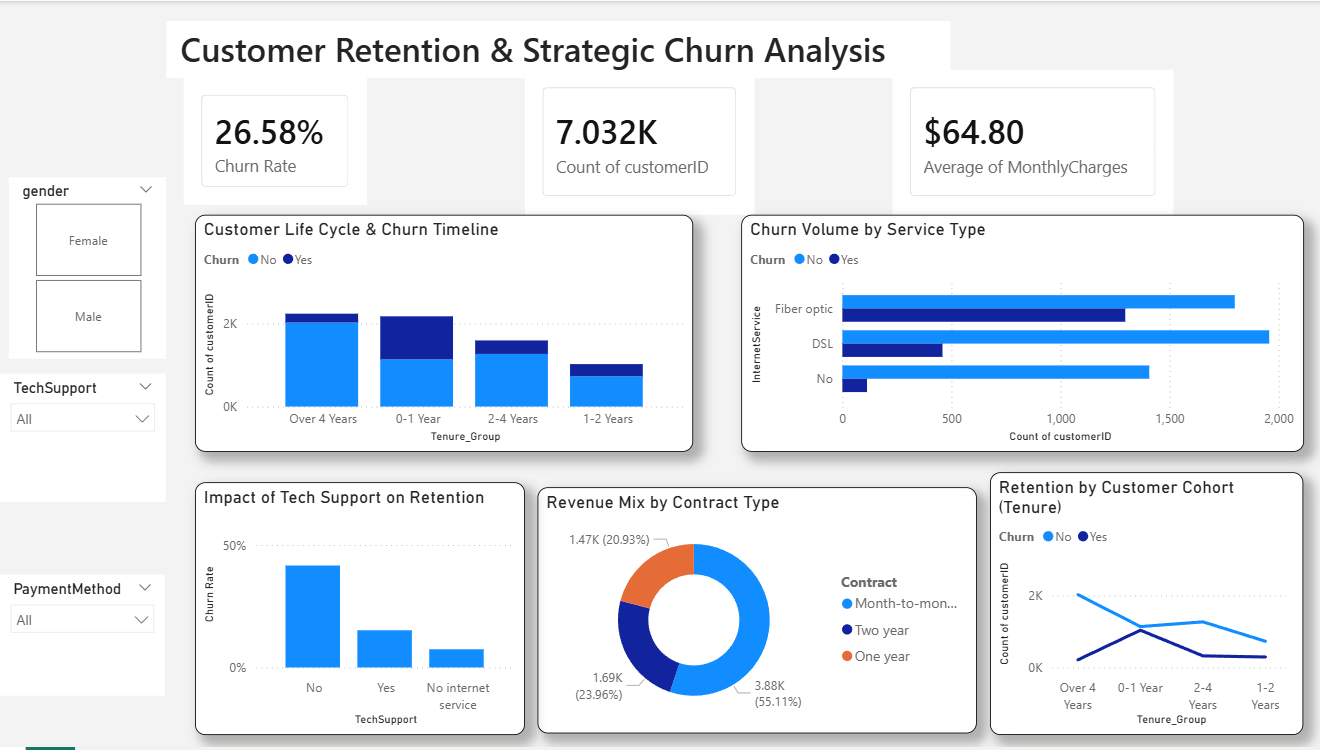

Layout of this report page (visuals, bound fields, positions):
{"tool":"powerbi","page":{"name":"Page 1","canvas":[1280,720],"ordinal":0},"visuals":[{"type":"cardVisual","fields":{"Data":["Count(final_churn_analysis_data.customerID)"]},"box":[506.7,65.8,221.4,139.7],"z":0},{"type":"cardVisual","fields":{"Data":["Avg(final_churn_analysis_data.MonthlyCharges)"]},"box":[861.9,65.8,271.3,139.7],"z":1000},{"type":"cardVisual","fields":{"Data":["final_churn_analysis_data.Churn Rate","select"]},"box":[176.9,74,176.9,123.4],"z":2000},{"type":"donutChart","title":"Revenue Mix by Contract Type","fields":{"Category":["final_churn_analysis_data.Contract"],"Y":["CountNonNull(final_churn_analysis_data.customerID)"]},"box":[518.4,469.7,424.2,237.3],"z":3000},{"type":"clusteredBarChart","title":"Churn Volume by Service Type","fields":{"Category":["final_churn_analysis_data.InternetService"],"Y":["CountNonNull(final_churn_analysis_data.customerID)"],"Series":["final_churn_analysis_data.Churn"]},"box":[715.1,206.4,542.8,229.2],"z":4000},{"type":"lineChart","title":"Retention by Customer Cohort (Tenure)","fields":{"Category":["final_churn_analysis_data.Tenure_Group"],"Y":["CountNonNull(final_churn_analysis_data.customerID)"],"Series":["final_churn_analysis_data.Churn"]},"box":[955.6,455.1,302.3,253.5],"z":4001},{"type":"columnChart","title":"Customer Life Cycle & Churn Timeline","fields":{"Category":["final_churn_analysis_data.Tenure_Group"],"Series":["final_churn_analysis_data.Churn"],"Y":["Count(final_churn_analysis_data.customerID)"]},"box":[188.5,206.4,481.1,229.2],"z":4002},{"type":"clusteredColumnChart","title":"Impact of Tech Support on Retention","fields":{"Category":["final_churn_analysis_data.TechSupport"],"Y":["final_churn_analysis_data.Churn Rate"]},"box":[188.5,464.8,318.5,243.8],"z":4003},{"type":"textbox","box":[160.4,19.2,756.8,54.8],"z":4004},{"type":"slicer","fields":{"Values":["final_churn_analysis_data.gender"]},"box":[8,169.6,151.6,175.6],"z":4005},{"type":"slicer","fields":{"Values":["final_churn_analysis_data.PaymentMethod"]},"box":[0,553.9,159,116.5],"z":4007},{"type":"slicer","fields":{"Values":["final_churn_analysis_data.TechSupport"]},"box":[0,359.1,159.6,123.7],"z":4008}]}

Visuals, with their boxes in screenshot pixels (x1, y1, x2, y2), scaled from the page's 1280x720 canvas onto the 1320x750 screenshot:
cardVisual - Count(final_churn_analysis_data.customerID): Rect(523, 69, 751, 214)
cardVisual - Avg(final_churn_analysis_data.MonthlyCharges): Rect(889, 69, 1169, 214)
cardVisual - final_churn_analysis_data.Churn Rate x select: Rect(182, 77, 365, 206)
"Revenue Mix by Contract Type" donutChart: Rect(535, 489, 972, 736)
"Churn Volume by Service Type" clusteredBarChart: Rect(737, 215, 1297, 454)
"Retention by Customer Cohort (Tenure)" lineChart: Rect(985, 474, 1297, 738)
"Customer Life Cycle & Churn Timeline" columnChart: Rect(194, 215, 691, 454)
"Impact of Tech Support on Retention" clusteredColumnChart: Rect(194, 484, 523, 738)
textbox: Rect(165, 20, 946, 77)
slicer - final_churn_analysis_data.gender: Rect(8, 177, 165, 360)
slicer - final_churn_analysis_data.PaymentMethod: Rect(0, 577, 164, 698)
slicer - final_churn_analysis_data.TechSupport: Rect(0, 374, 165, 503)
